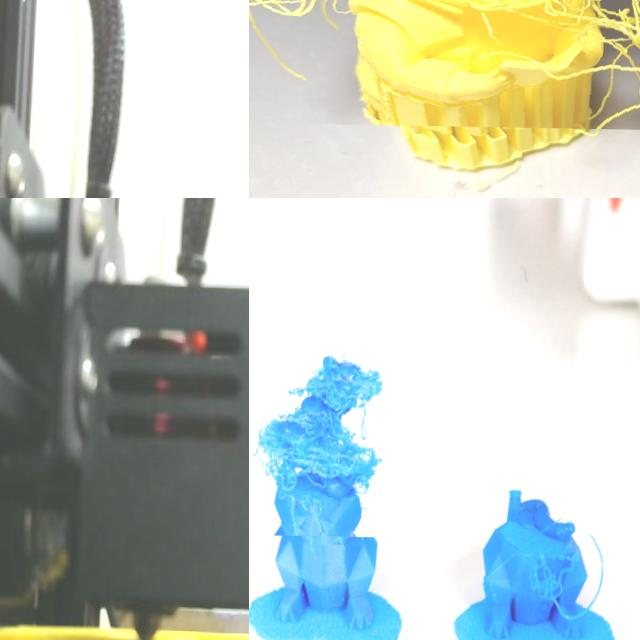spaghetti: (249, 0, 640, 133), (249, 312, 411, 537), (524, 540, 622, 633)
